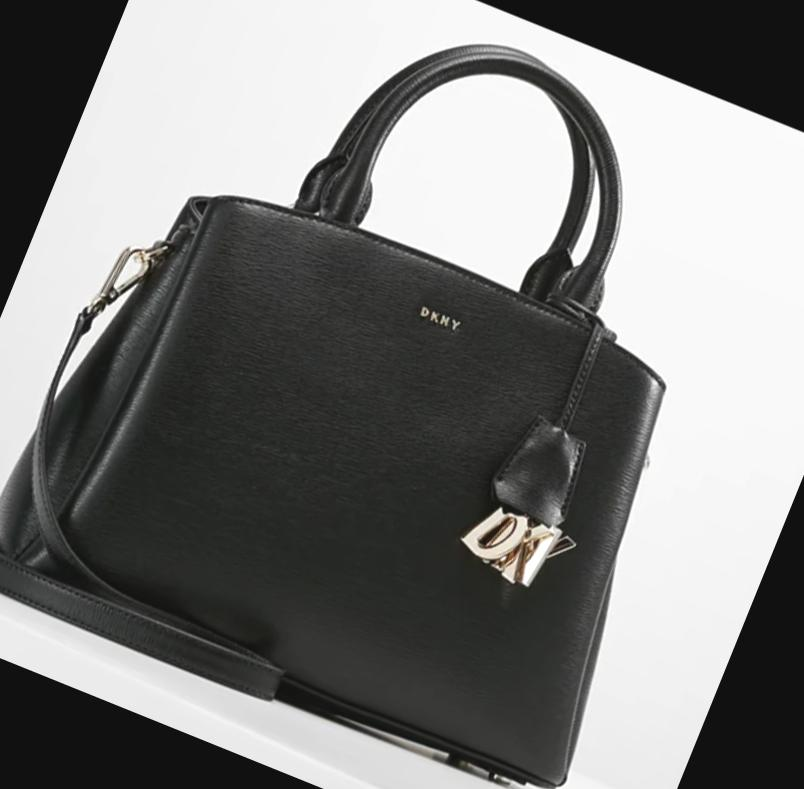DKNY: (418, 304, 461, 330)
